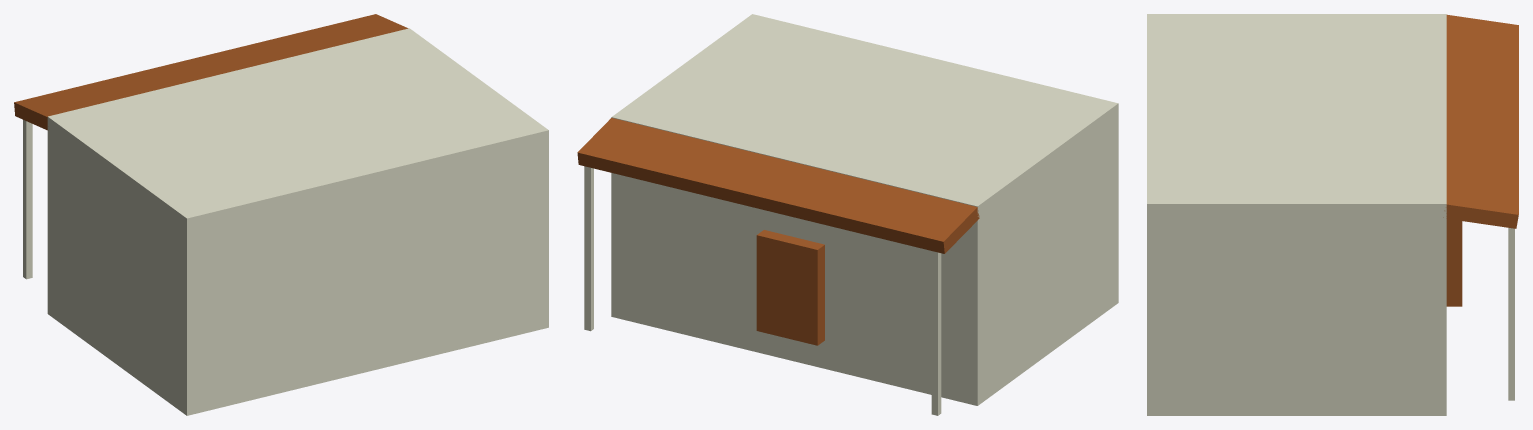
File: building 6.fbx
3 views of the same model, side by side, from view 1: azimuth 30°, elevation 25°; view 2: azimuth 150°, elevation 25°; view 3: azimuth 270°, elevation 25° (orthographic). The views are drawn at different scales.
Parts seen in each view (by area): view 1: pCube4, pCube6, pCube8; view 2: pCube4, pCube6, pCube9, pCube8, pCube7; view 3: pCube4, pCube6, pCube9, pCube7.
Boxes of the visible parts, <box> form: pCube4: <box>47,28,548,415</box>; pCube6: <box>14,14,408,130</box>; pCube8: <box>23,120,32,279</box>; pCube4: <box>611,14,1118,405</box>; pCube6: <box>577,118,979,253</box>; pCube9: <box>756,230,824,345</box>; pCube8: <box>931,251,941,415</box>; pCube7: <box>584,166,593,331</box>; pCube4: <box>1147,14,1446,415</box>; pCube6: <box>1443,14,1518,228</box>; pCube9: <box>1446,219,1462,306</box>; pCube7: <box>1508,228,1514,400</box>.
Bounding box in the file's own units: 12 × 6.25 × 9.93.
